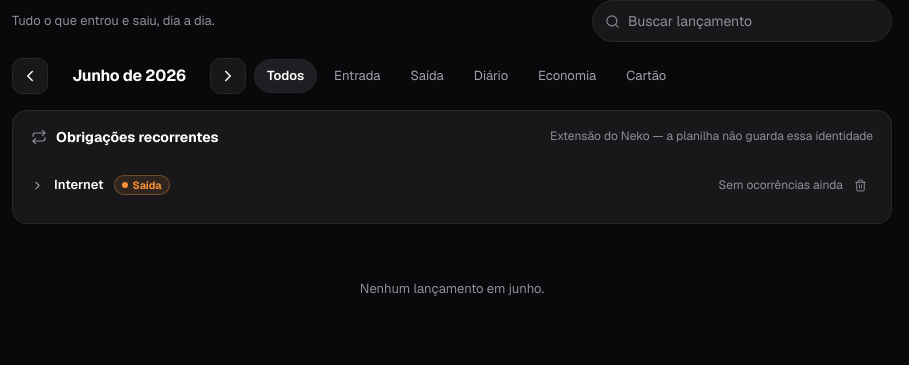
Scenario: Obrigações recorrentes (plano 069) › obrigação sem histórico ainda mostra o estado vazio, não quebra
Expected: the text "Internet" is shown, [54,176,104,195]
Expected: the text "Sem ocorrências ainda" is shown, [718,177,843,194]
Click the button named "Ver histórico de \"Internet\"" at [79, 184], box [31,165,843,205]
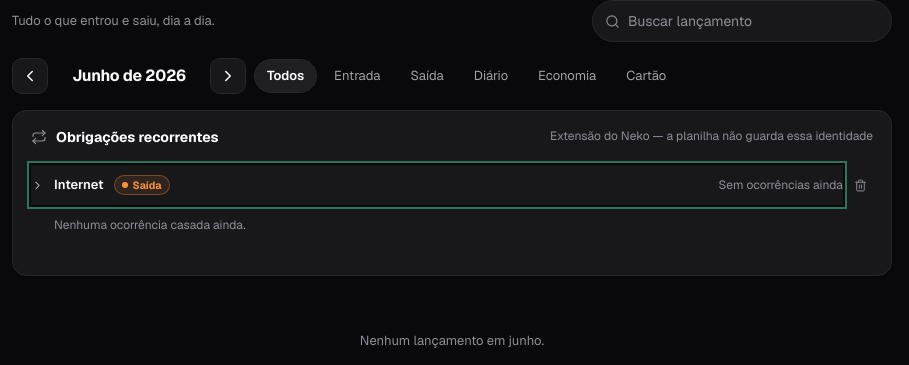
Result: the text "Nenhuma ocorrência casada ainda." is shown at [54,217,246,233]
